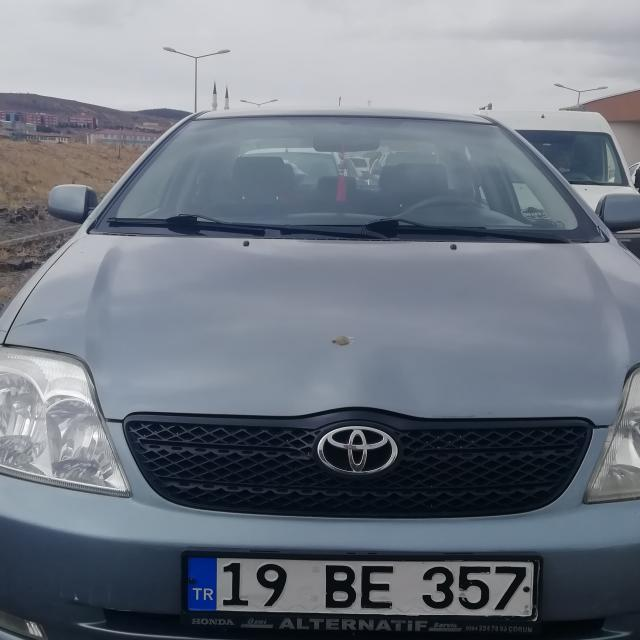license_plate: (188, 554, 538, 620)
